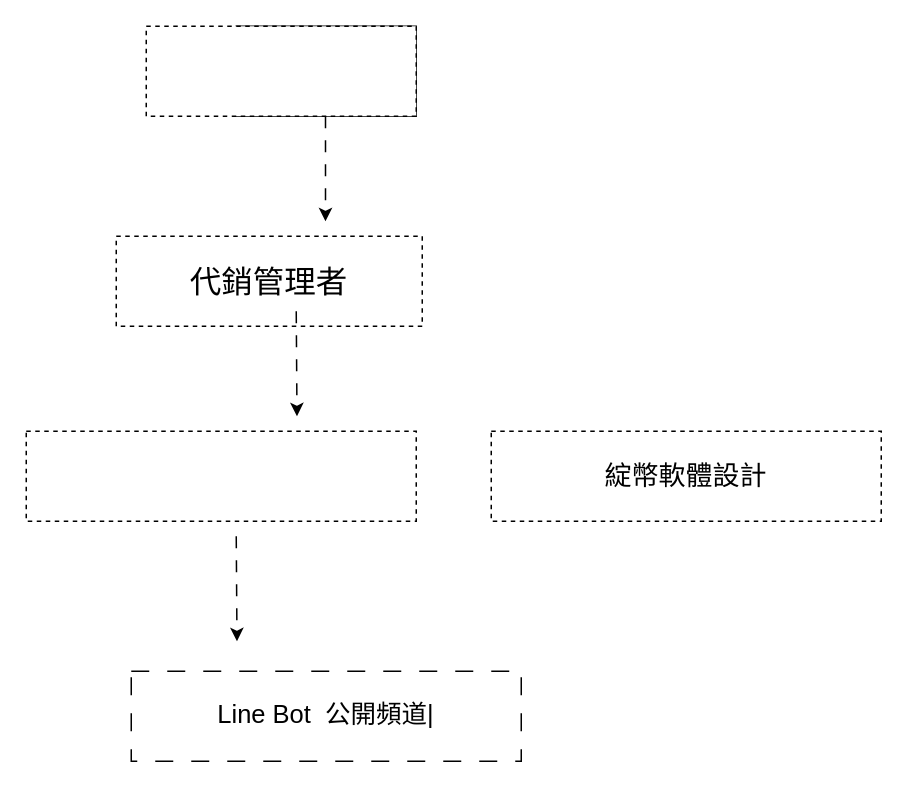
Some shapes in this 908 by 788 pixel diagram are drawn without their labels. The shapes that lost their labels are listed below. From the top down, each one's centre as x and y in pixels, then its label:
the point at 280,70: 代銷公司
the point at 220,475: 預約型買家|現場即時參觀買家
